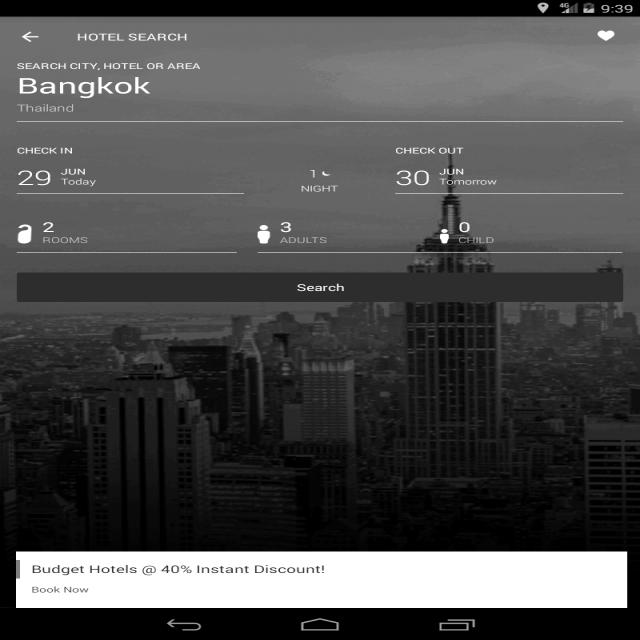Button: (11, 270, 627, 308)
ImageButton: (14, 23, 52, 45), (590, 28, 626, 47)
TextView: (25, 561, 335, 575), (12, 73, 166, 101), (390, 166, 504, 187), (76, 27, 185, 47), (40, 220, 106, 244), (24, 581, 94, 595)
